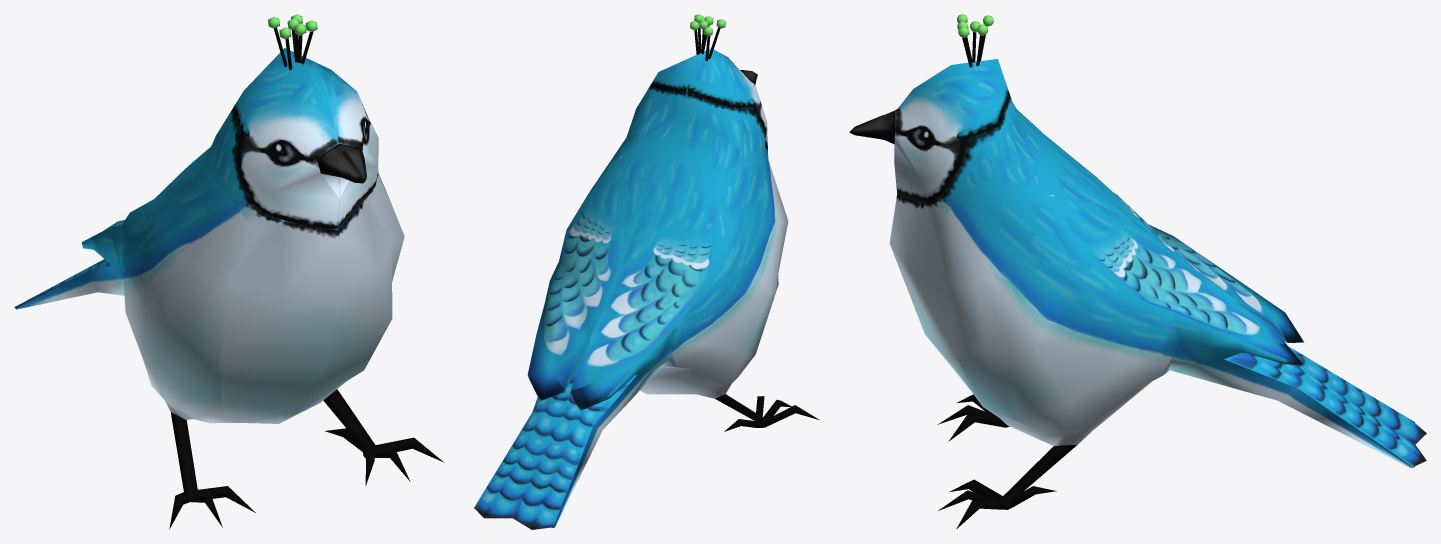
Rendered from BluGameModel.FBX.
3 renders of one model, left to right at view 1: azimuth 30°, elevation 25°; view 2: azimuth 150°, elevation 25°; view 3: azimuth 270°, elevation 25°, orthographic. The views are drawn at different scales.
Visible parts, largest first — view 1: Bird; view 2: Bird; view 3: Bird.
Part boxes in pixels (x1,y1,x2,y2): Bird: [14, 14, 443, 529]; Bird: [473, 14, 819, 529]; Bird: [849, 14, 1426, 529].
Size of the model in its own units: 0.2346 by 0.452 by 0.3848.
Materials: 1 (1 with a texture image).
